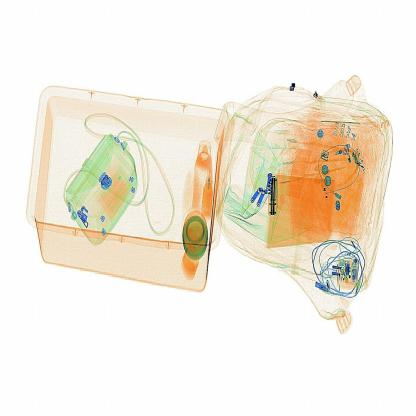scissors: (264, 169, 290, 226)
